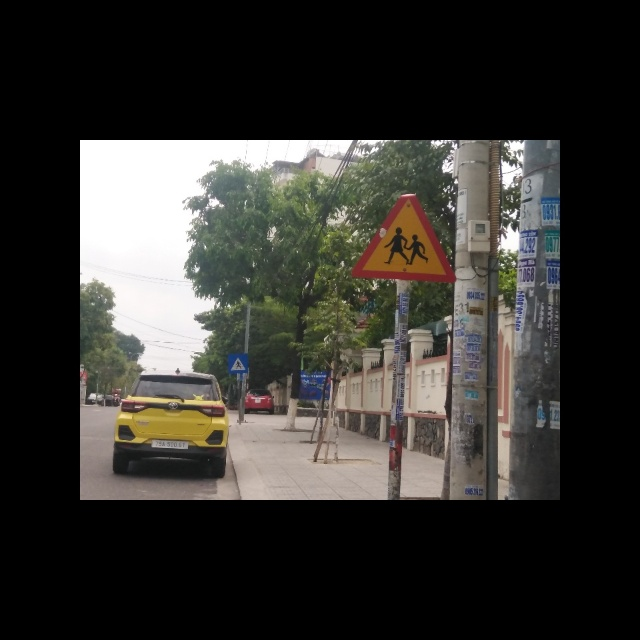Trẻ em ngang qua: (352, 191, 457, 282)
Đường dành cho người đi bộ: (228, 351, 248, 375)
